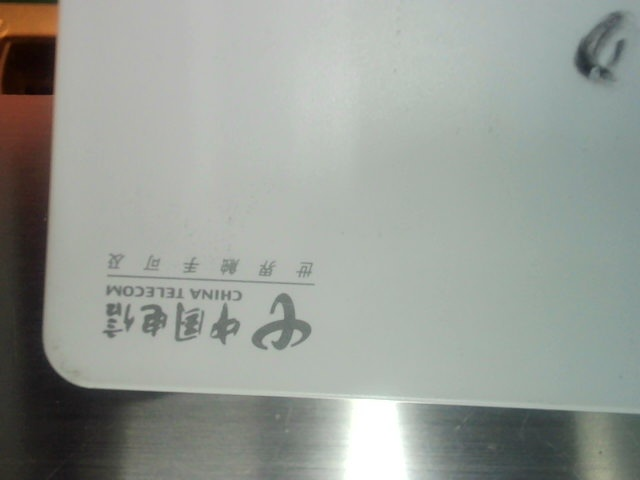AB_ChinaTelecom: (93, 243, 322, 355)
